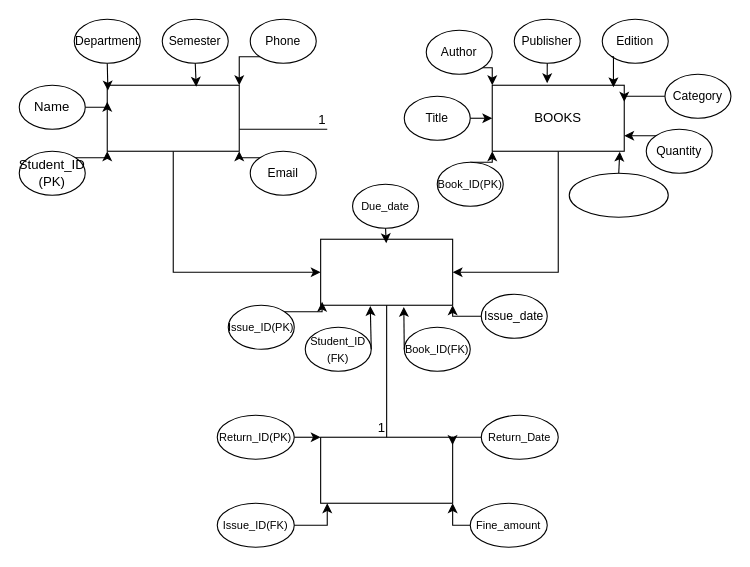
Some shapes in this 750 by 567 pixel diagram are drawn without their labels. Here are the shapes that lost their labels. From the top down, the centre of each, then its label:
At point (172, 117): "STUDENTS".
At point (618, 194): "Available_Quantity".
At point (386, 271): "ISSUE_RECORD".
At point (386, 469): "RETURN_RECORD".
